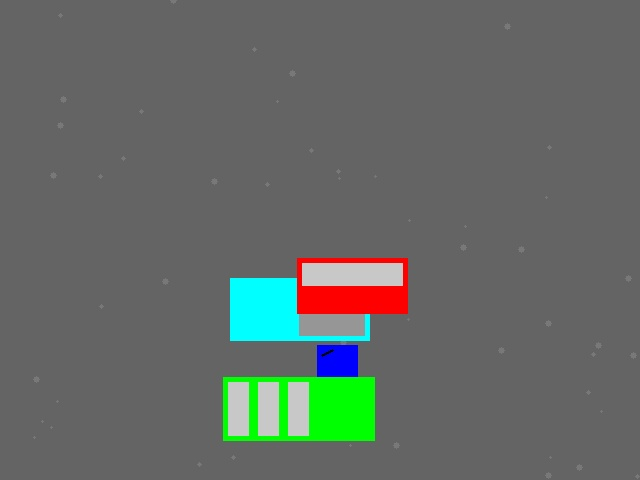bus: (223, 377, 374, 440)
car: (297, 258, 407, 313)
motorcycle: (317, 345, 357, 425)
truck: (230, 278, 369, 340)
